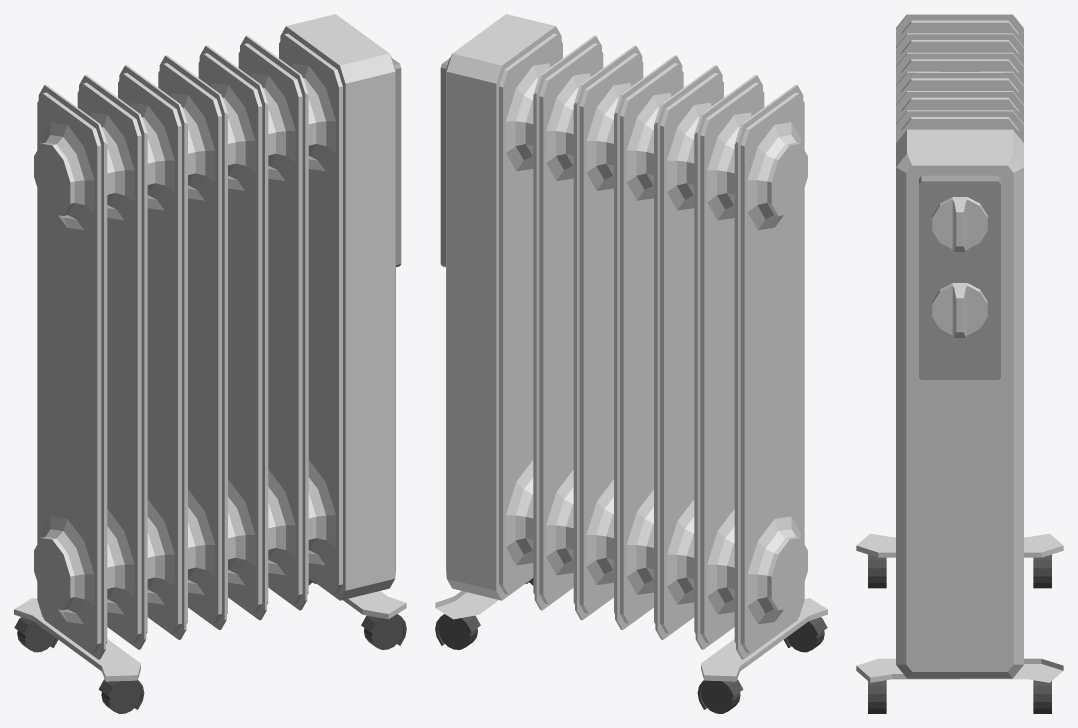
The model's file is d531481b-d985-4fc7-9894-f0e0823eda47.glb.
3 views of the same model, side by side, from view 1: azimuth 30°, elevation 25°; view 2: azimuth 150°, elevation 25°; view 3: azimuth 270°, elevation 25° (orthographic).
Parts seen in each view (by area): view 1: Oil_Heater; view 2: Oil_Heater; view 3: Oil_Heater.
Part boxes in pixels (x1,y1,x2,y2): Oil_Heater: [14, 14, 406, 713]; Oil_Heater: [435, 14, 827, 713]; Oil_Heater: [856, 14, 1063, 713].
Size of the model in its own units: 82.39 by 132 by 43.83.
Materials: 1 (1 with a texture image).
